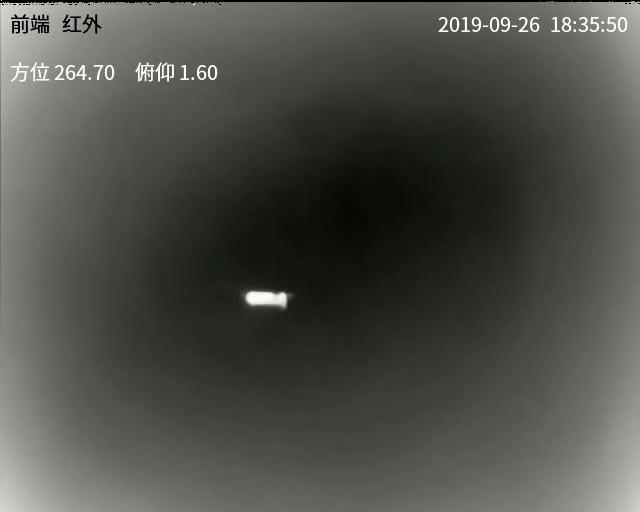uav: (234, 281, 290, 311)
